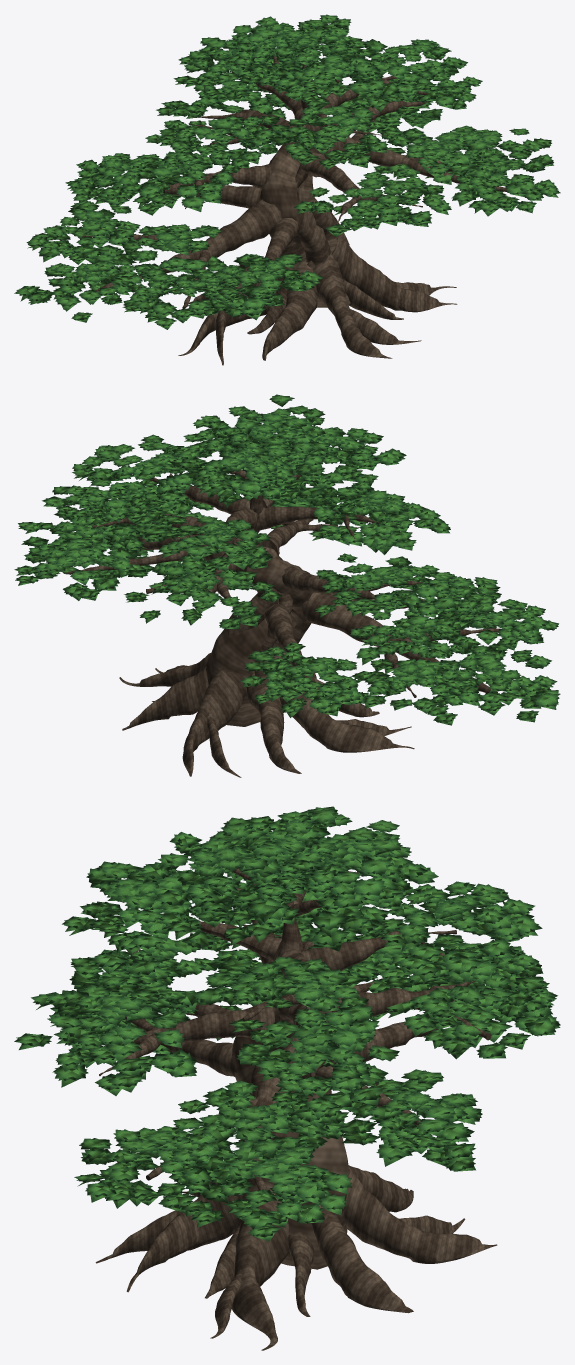
The model's file is Bonsai_Tree.fbx.
3 renders of one model, top to bottom at view 1: azimuth 30°, elevation 25°; view 2: azimuth 150°, elevation 25°; view 3: azimuth 270°, elevation 25°, orthographic. The views are drawn at different scales.
Visible parts, largest first — view 1: Foliage, Trunk_Branches, Roots; view 2: Foliage, Trunk_Branches, Roots; view 3: Foliage, Roots, Trunk_Branches.
Part boxes in pixels (bbox=[...]): Foliage: bbox=[14, 14, 560, 329]; Trunk_Branches: bbox=[82, 56, 507, 308]; Roots: bbox=[178, 237, 457, 365]; Foliage: bbox=[14, 394, 560, 725]; Trunk_Branches: bbox=[65, 455, 498, 726]; Roots: bbox=[119, 652, 414, 777]; Foliage: bbox=[14, 806, 560, 1241]; Roots: bbox=[95, 1165, 497, 1350]; Trunk_Branches: bbox=[99, 868, 491, 1269].
Bounding box in the file's own units: 8.27 × 4.27 × 5.06.
Materials: 2 (2 with a texture image).
